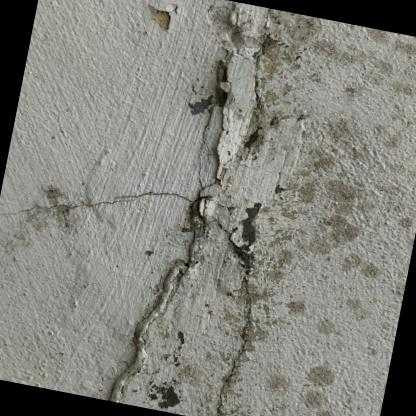crack: (0, 182, 213, 216), (213, 283, 253, 416)
